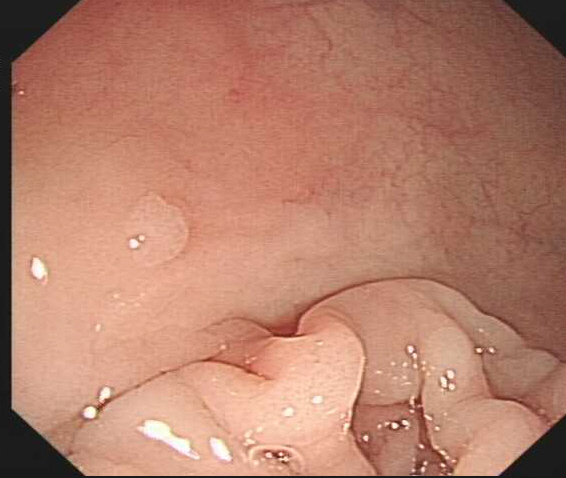others: (120, 189, 189, 270)
